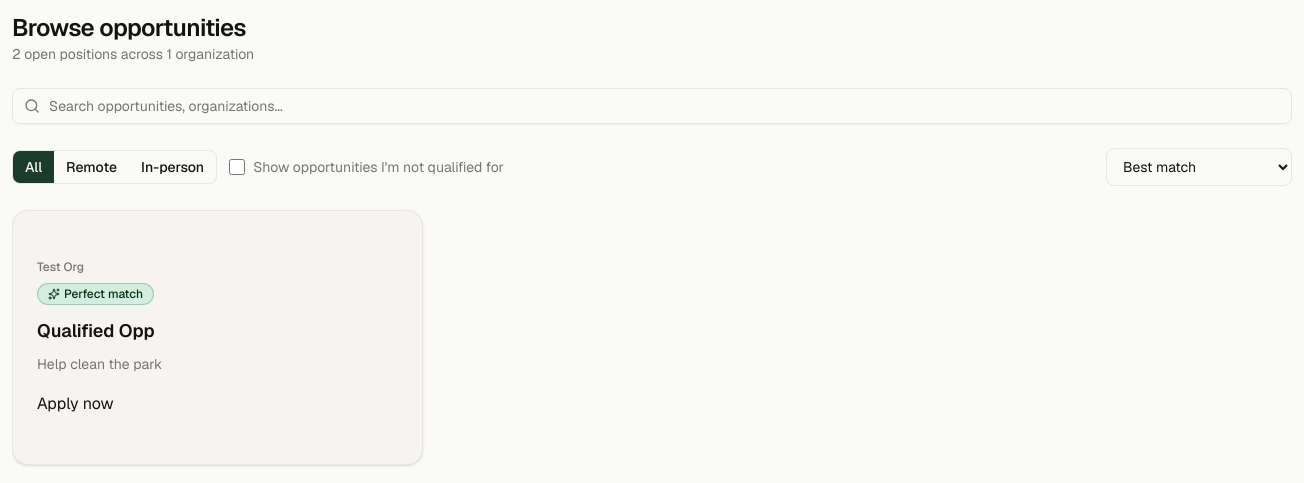
Scenario: BrowseOpportunities › reveals unqualified opportunities when the "show unqualified" toggle is checked
Click the checkbox labelled "Show opportunities I'm not qualified for" at (237, 167), box [229, 159, 245, 175]
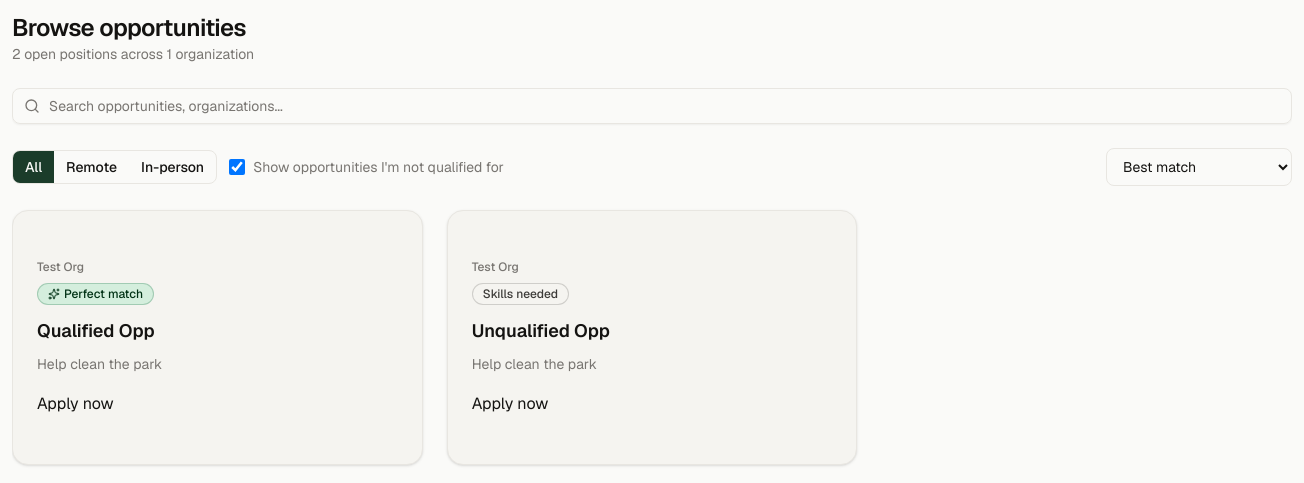
Expected: the heading "Qualified Opp" is shown, [37, 319, 155, 342]
Result: the heading "Unqualified Opp" is shown at [472, 319, 610, 342]
